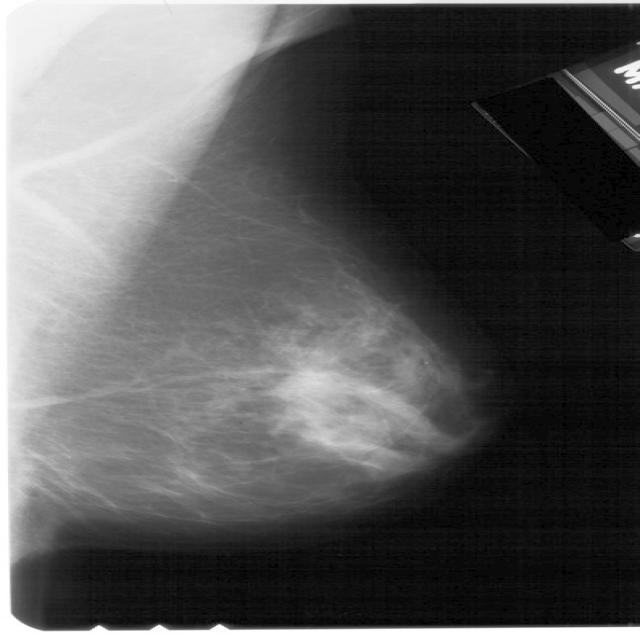tumour: (271, 363, 359, 405)
